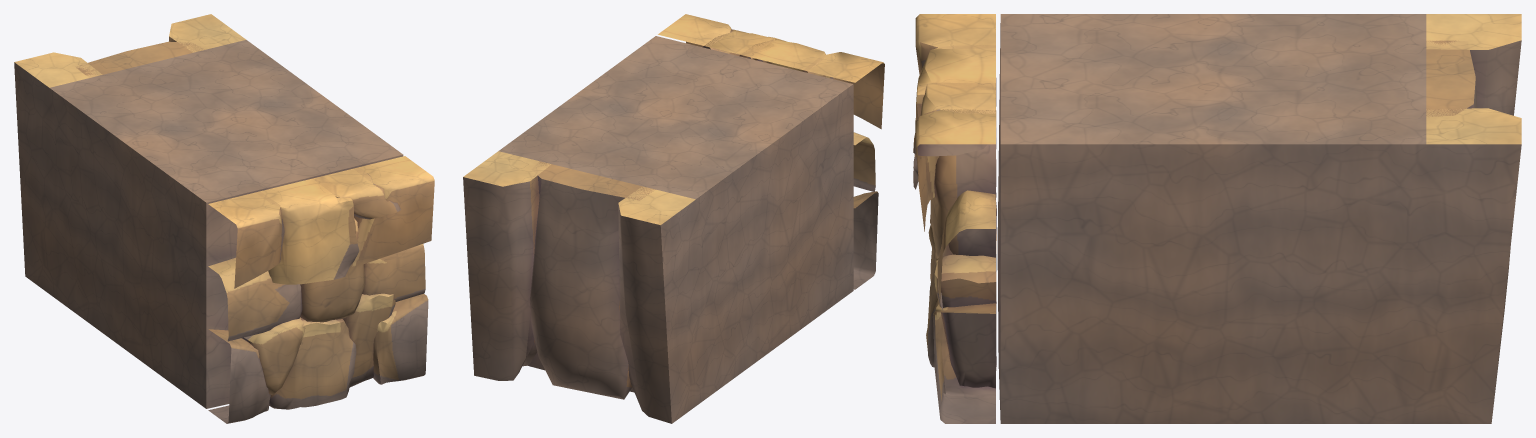
The model's file is T04_BareRockCore.fbx.
3 renders of one model, left to right at view 1: azimuth 30°, elevation 25°; view 2: azimuth 150°, elevation 25°; view 3: azimuth 270°, elevation 25°, orthographic. The views are drawn at different scales.
Parts seen in each view (by area): view 1: T04_BareRockCore; view 2: T04_BareRockCore; view 3: T04_BareRockCore.
Boxes of the visible parts, box(x1,y1,x2,y2) form: T04_BareRockCore: box(14, 14, 434, 423); T04_BareRockCore: box(463, 14, 884, 423); T04_BareRockCore: box(913, 14, 1521, 423).
Size of the model in its own units: 2 by 2.02 by 3.94.
